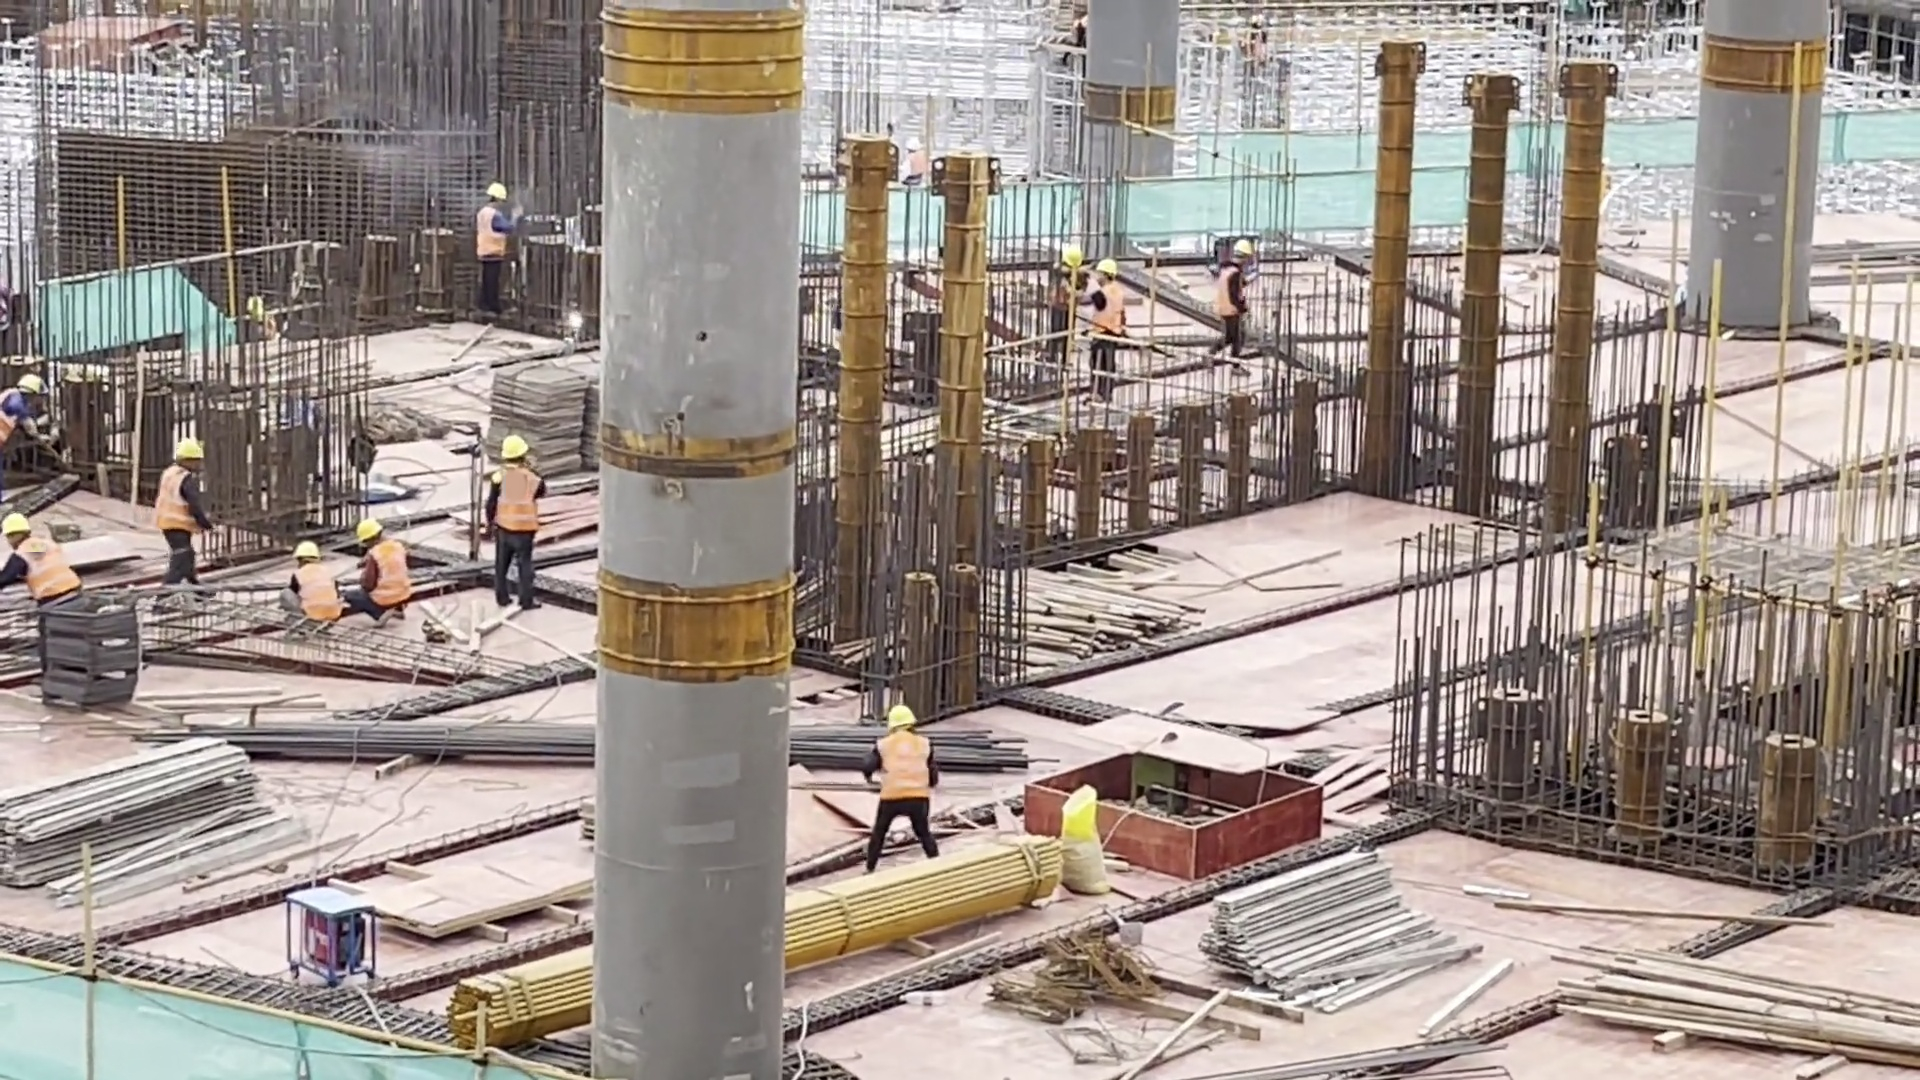helmet: (885, 704, 917, 730), (173, 437, 204, 462), (501, 434, 529, 461), (1, 512, 30, 538), (356, 517, 383, 542), (1063, 243, 1084, 270), (293, 540, 320, 561), (487, 182, 510, 202), (1232, 237, 1254, 257), (1096, 257, 1120, 276)
person: (864, 697, 942, 874), (486, 434, 549, 614), (340, 517, 411, 625), (1, 506, 86, 597), (157, 437, 209, 579), (1213, 241, 1258, 374), (1, 370, 53, 476), (471, 181, 513, 308), (1091, 257, 1124, 403), (282, 543, 338, 621), (1049, 241, 1082, 361)
vest: (488, 463, 546, 531), (876, 734, 932, 804), (16, 539, 83, 597), (364, 541, 412, 610), (158, 465, 202, 534), (292, 562, 339, 621), (1092, 280, 1124, 336)
